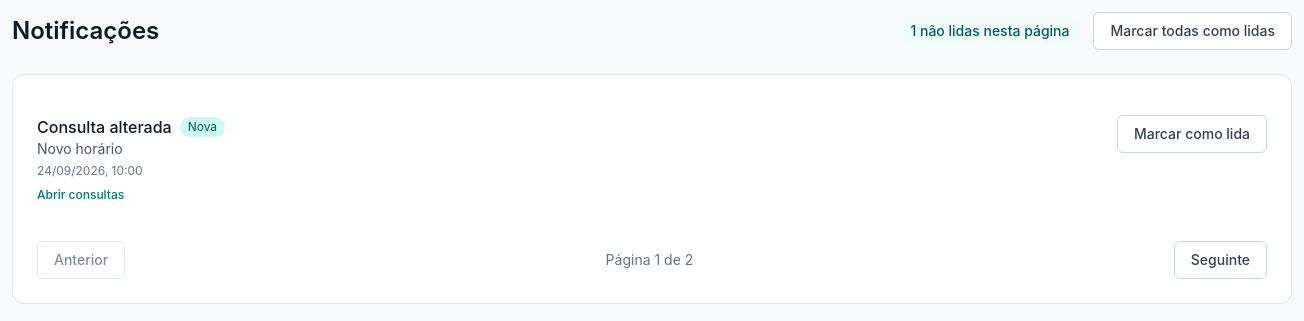
Test: NotificationsPage › marks an unread notification as read and requests the next server page
Click the button "Marcar como lida" at (1192, 134), box [1117,115,1267,153]
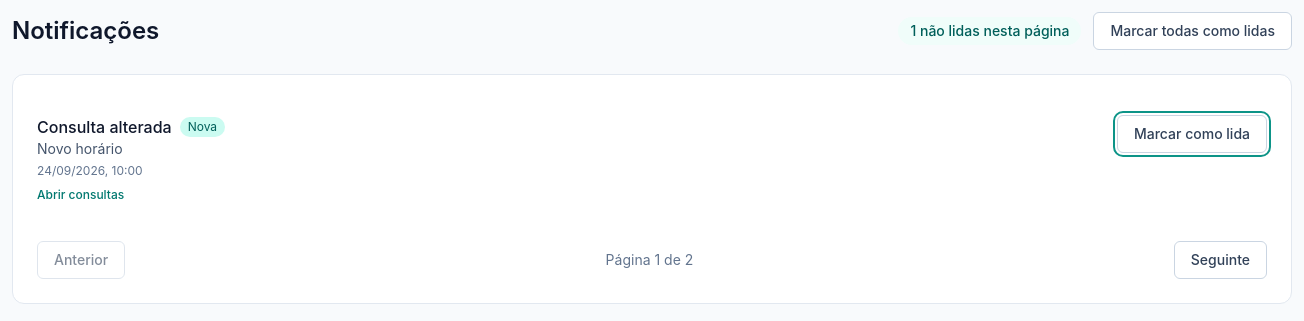
Click the button "Seguinte" at (1220, 260), box [1174,241,1267,279]
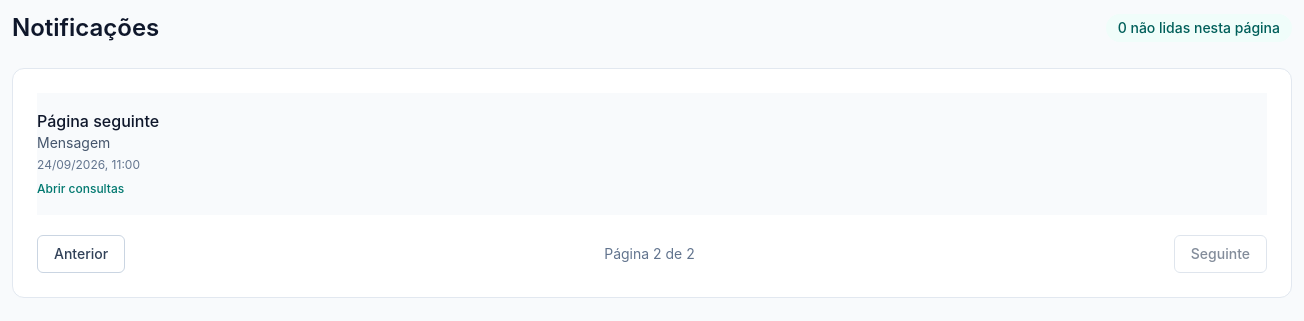
expect the text "Página seguinte" is shown: met, box [37,109,159,133]
